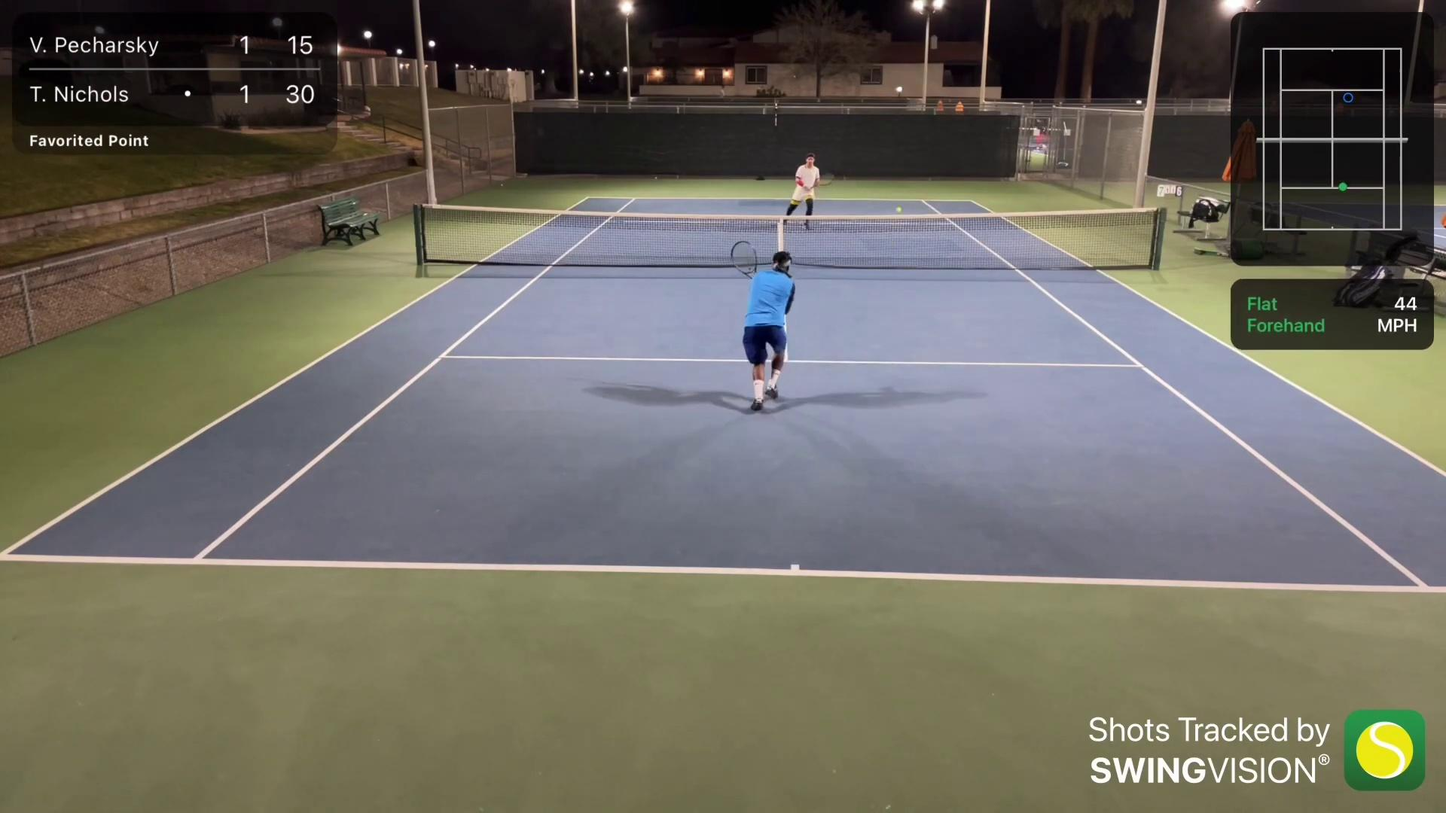ball: (895, 206, 902, 213)
